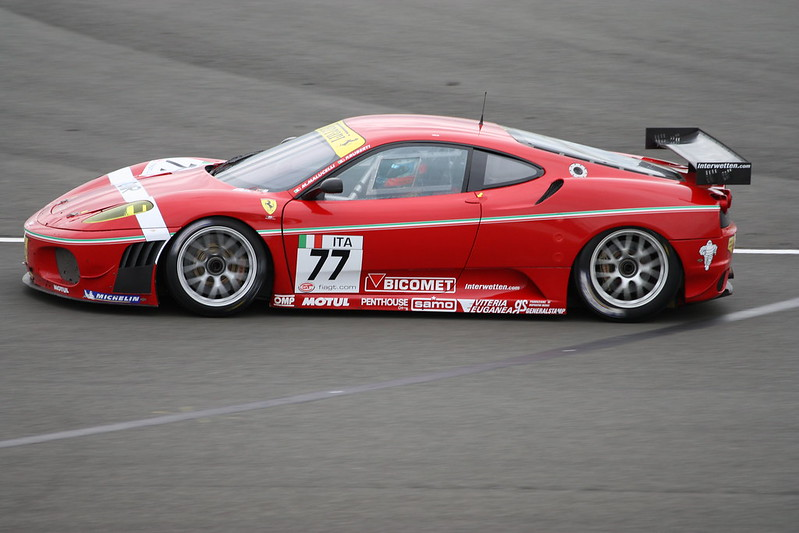car: (8, 87, 758, 328)
